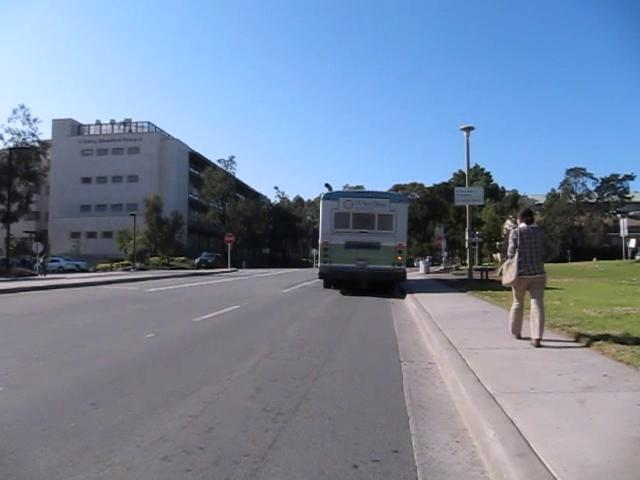stop: (222, 232, 235, 245)
